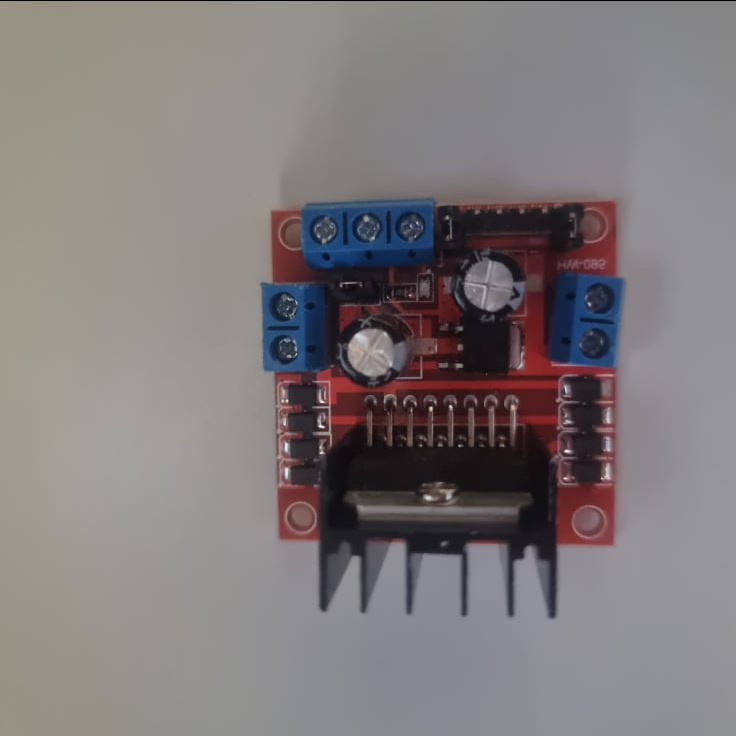MOTOR: (261, 200, 625, 621)
